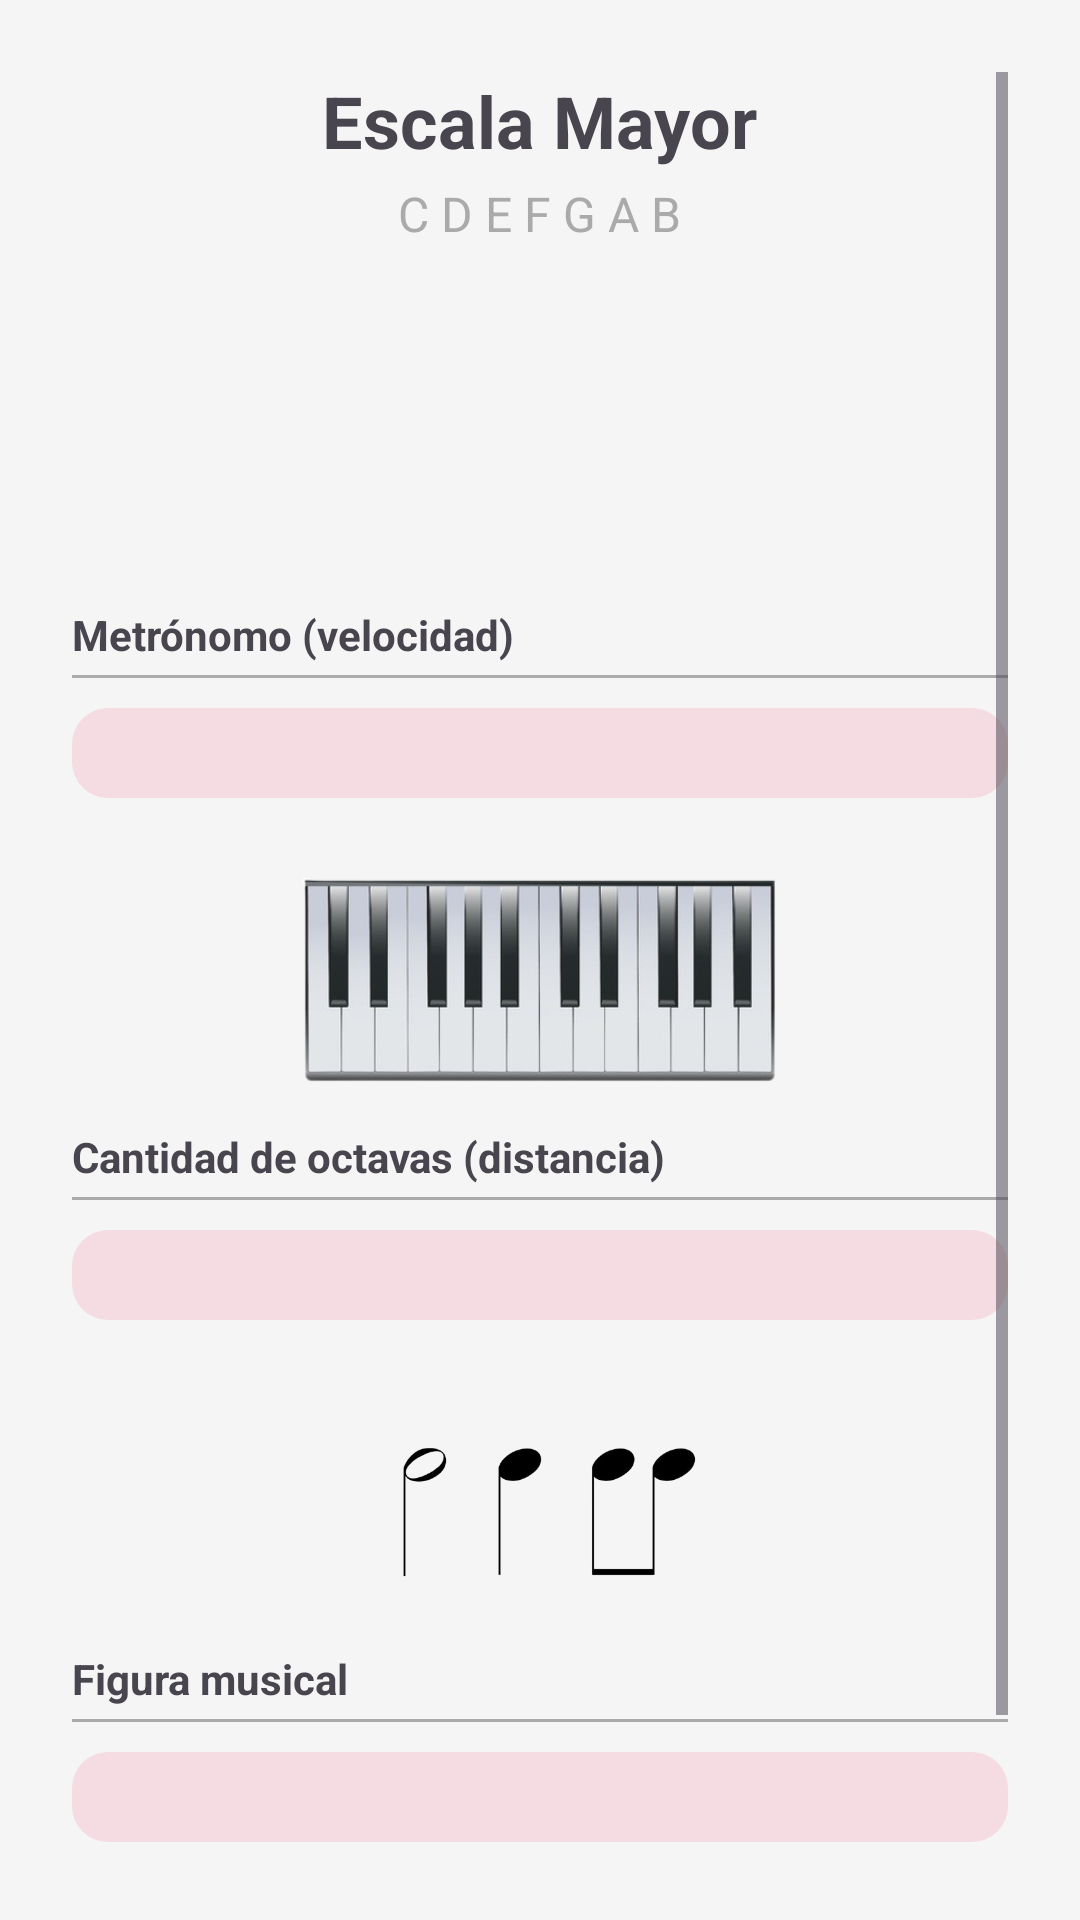

Locate icon controls on the screen. Image size 1080px×1920px, boxes as (x1, y1, x2, y2).
notes: (403, 1448, 695, 1576)
